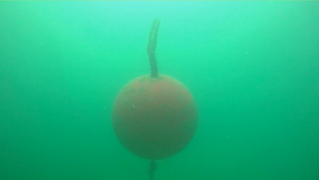buoy: (111, 73, 198, 159)
